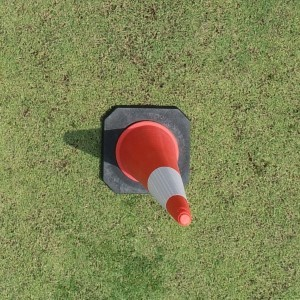traffic cone: (103, 106, 190, 224)
